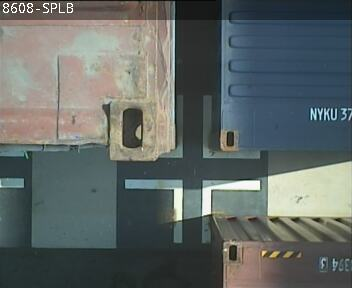groundmarker_1: (122, 177, 261, 243), (158, 93, 258, 156)
